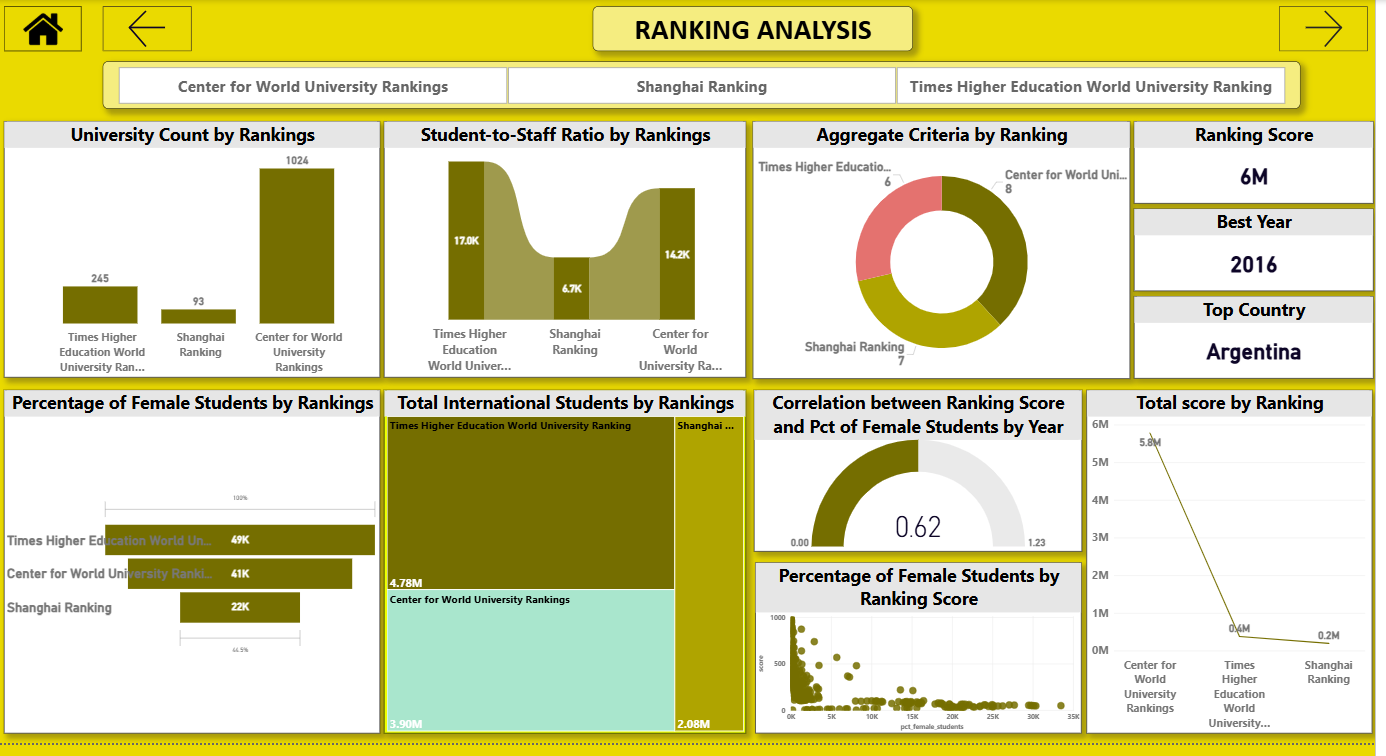

This screenshot's page, from the dashboard's own definition file:
{"tool":"powerbi","page":{"name":"Ranking Analysis","canvas":[2500,1350],"ordinal":3},"visuals":[{"type":"image","box":[9.1,11.4,140.8,81.8],"z":0},{"type":"columnChart","title":"University Count by Rankings","fields":{"Category":["ranking_system.system_name"],"Y":["CountNonNull(university.university_name)"]},"box":[8.5,220.2,683.3,465.9],"z":1000},{"type":"ribbonChart","title":" Student-to-Staff Ratio by Rankings","fields":{"Category":["ranking_system.system_name"],"Y":["Sum(university_year.student_staff_ratio)"]},"box":[700.2,220.2,657.9,465.9],"z":2000},{"type":"donutChart","title":"Aggregate Criteria by Ranking","fields":{"Category":["ranking_system.system_name"],"Y":["CountNonNull(ranking_criteria.criteria_name)"]},"box":[1369.5,220.3,685.9,467.8],"z":3000},{"type":"funnel","title":" Percentage of Female Students by Rankings","fields":{"Category":["ranking_system.system_name"],"Y":["Sum(university_year.pct_female_students)"]},"box":[8.5,708.7,683.3,624],"z":4000},{"type":"treemap","title":"Total International Students by Rankings","fields":{"Group":["ranking_system.system_name"],"Values":["Sum(university_year.Total_Int_Student)"]},"box":[700.2,708.7,657.9,624],"z":5000},{"type":"gauge","title":"Correlation between Ranking Score and Pct of Female Students by Year","fields":{"Y":["country.score and pct_female_students correlation for year"]},"box":[1372.2,708.7,595.8,293.6],"z":6000},{"type":"scatterChart","title":"Percentage of Female Students by Ranking Score","fields":{"Y":["university_ranking_year.score"],"X":["Sum(university_year.pct_female_students)"]},"box":[1375.1,1022.1,592.9,310.6],"z":7000},{"type":"actionButton","box":[2325.6,11.4,161.2,81.8],"z":8000},{"type":"actionButton","box":[188.5,11.4,161.2,81.8],"z":9000},{"type":"textbox","box":[1078.8,11.4,581.4,81.8],"z":10000},{"type":"lineChart","title":"Total score by Ranking","fields":{"Y":["Sum(university_ranking_year.score)"],"Category":["ranking_system.system_name"]},"box":[1976.5,708.7,519.5,624],"z":11000},{"type":"card","title":"Ranking Score","fields":{"Values":["Sum(university_ranking_year.score)"]},"box":[2061.2,220.2,434.8,149.6],"z":12000},{"type":"card","title":"Best Year","fields":{"Values":["Max(university_ranking_year.year)"]},"box":[2061.2,378.4,434.8,149.6],"z":13000},{"type":"card","title":"Top Country","fields":{"Values":["Min(country.country_name)"]},"box":[2061.2,539.3,434.8,149.6],"z":14000},{"type":"slicer","fields":{"Values":["ranking_system.system_name"]},"box":[188.5,111.3,2175.7,86.3],"z":15001}]}

Visuals, with their boxes in screenshot pixels (x1, y1, x2, y2), scaled from the page's 2500x1350 canvas onto the 1386x756 screenshot:
image: {"x1": 5, "y1": 6, "x2": 83, "y2": 52}
"University Count by Rankings" columnChart: {"x1": 5, "y1": 123, "x2": 384, "y2": 384}
" Student-to-Staff Ratio by Rankings" ribbonChart: {"x1": 388, "y1": 123, "x2": 753, "y2": 384}
"Aggregate Criteria by Ranking" donutChart: {"x1": 759, "y1": 123, "x2": 1140, "y2": 385}
" Percentage of Female Students by Rankings" funnel: {"x1": 5, "y1": 397, "x2": 384, "y2": 746}
"Total International Students by Rankings" treemap: {"x1": 388, "y1": 397, "x2": 753, "y2": 746}
"Correlation between Ranking Score and Pct of Female Students by Year" gauge: {"x1": 761, "y1": 397, "x2": 1091, "y2": 561}
"Percentage of Female Students by Ranking Score" scatterChart: {"x1": 762, "y1": 572, "x2": 1091, "y2": 746}
actionButton: {"x1": 1289, "y1": 6, "x2": 1379, "y2": 52}
actionButton: {"x1": 105, "y1": 6, "x2": 194, "y2": 52}
textbox: {"x1": 598, "y1": 6, "x2": 920, "y2": 52}
"Total score by Ranking" lineChart: {"x1": 1096, "y1": 397, "x2": 1384, "y2": 746}
"Ranking Score" card: {"x1": 1143, "y1": 123, "x2": 1384, "y2": 207}
"Best Year" card: {"x1": 1143, "y1": 212, "x2": 1384, "y2": 296}
"Top Country" card: {"x1": 1143, "y1": 302, "x2": 1384, "y2": 386}
slicer - ranking_system.system_name: {"x1": 105, "y1": 62, "x2": 1311, "y2": 111}
